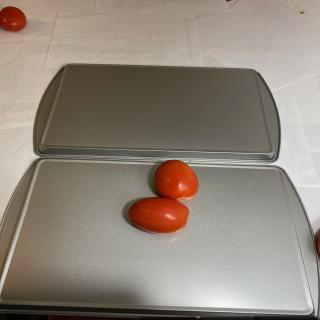Tomato: (128, 197, 189, 234), (154, 160, 199, 202), (0, 6, 27, 32)
